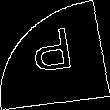P_S: (30, 27, 80, 83)
